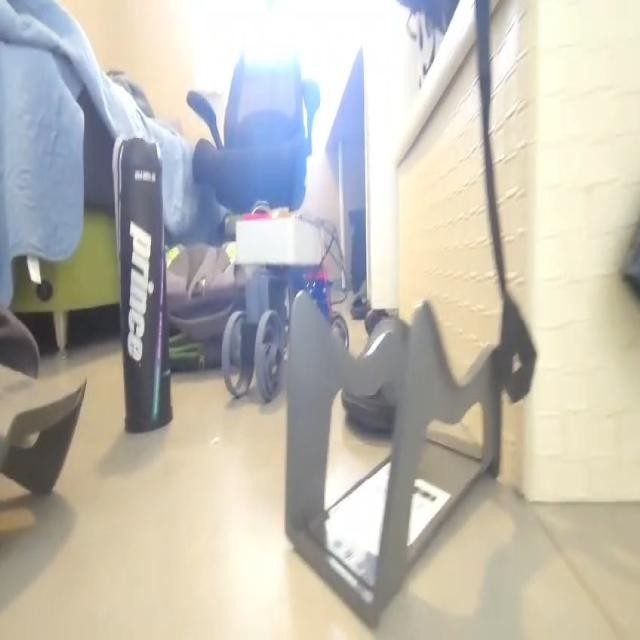Robot: (221, 208, 349, 402)
